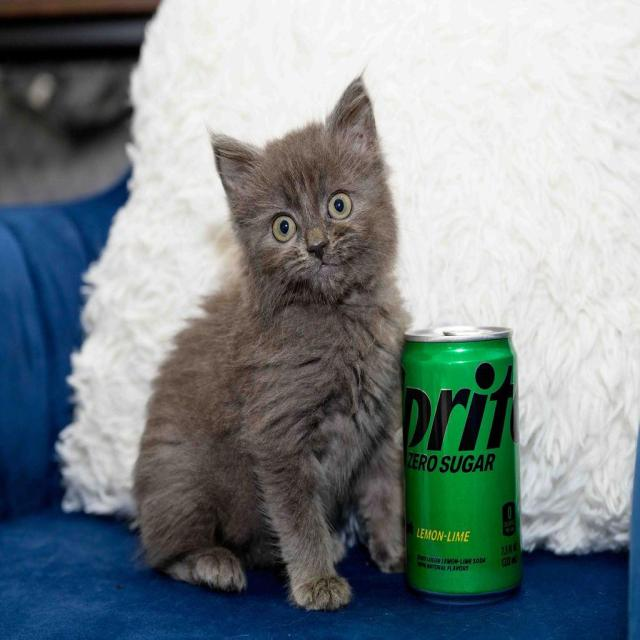manx_cat: (205, 71, 422, 328)
